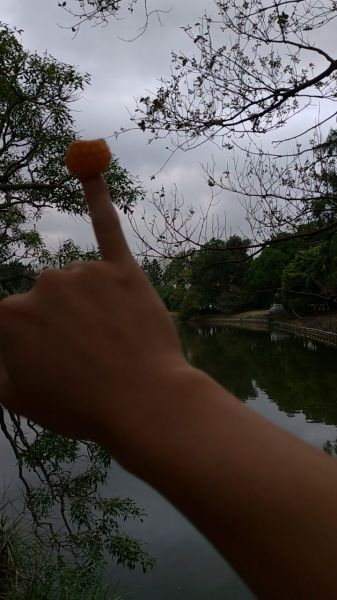eggs: (65, 138, 112, 178)
